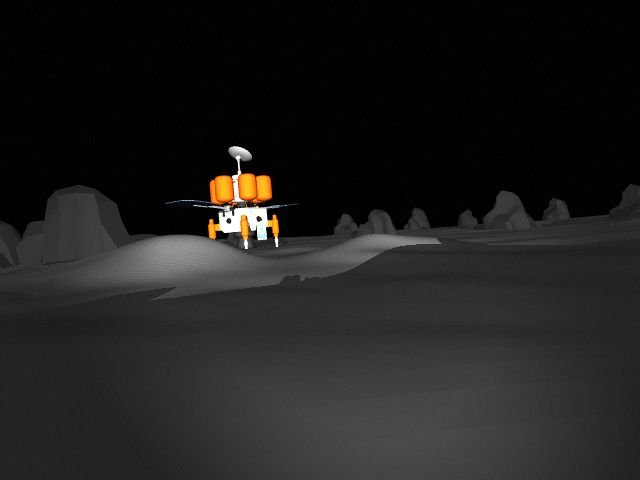homebase: (163, 142, 314, 258)
